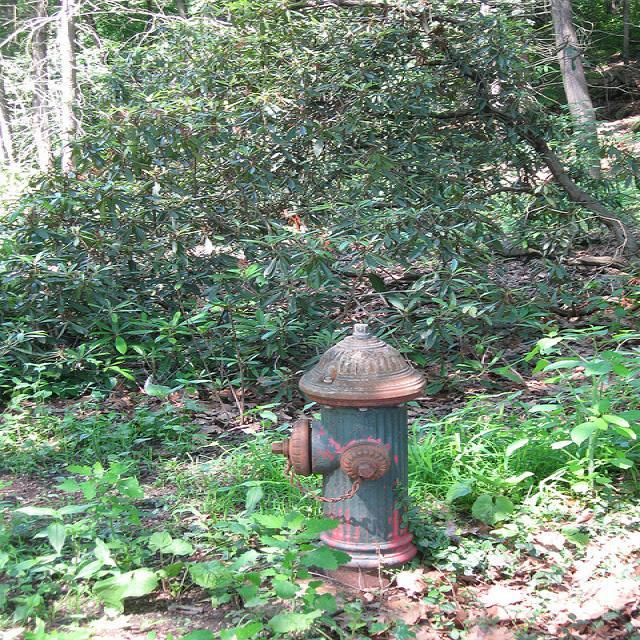fire_hydrant: (270, 323, 426, 567)
